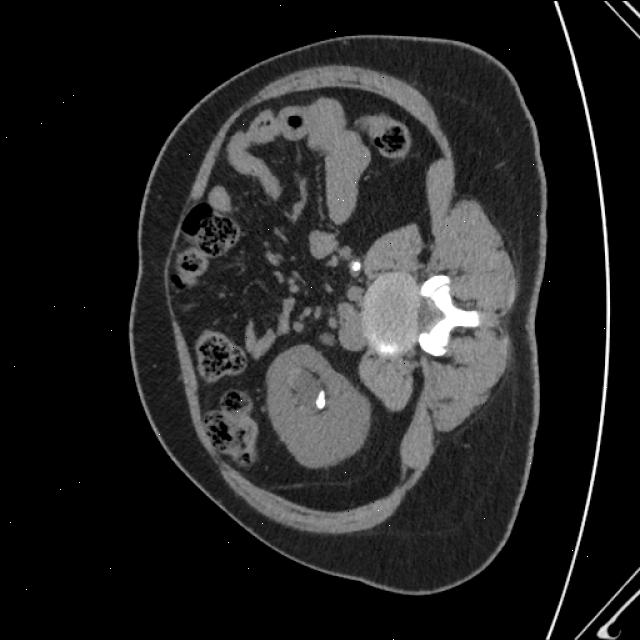kidneystone: (315, 389, 326, 409), (349, 259, 362, 271)
